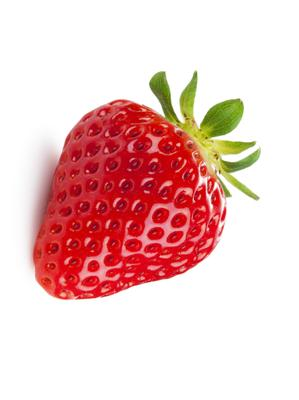strawberry: (0, 0, 299, 400)
